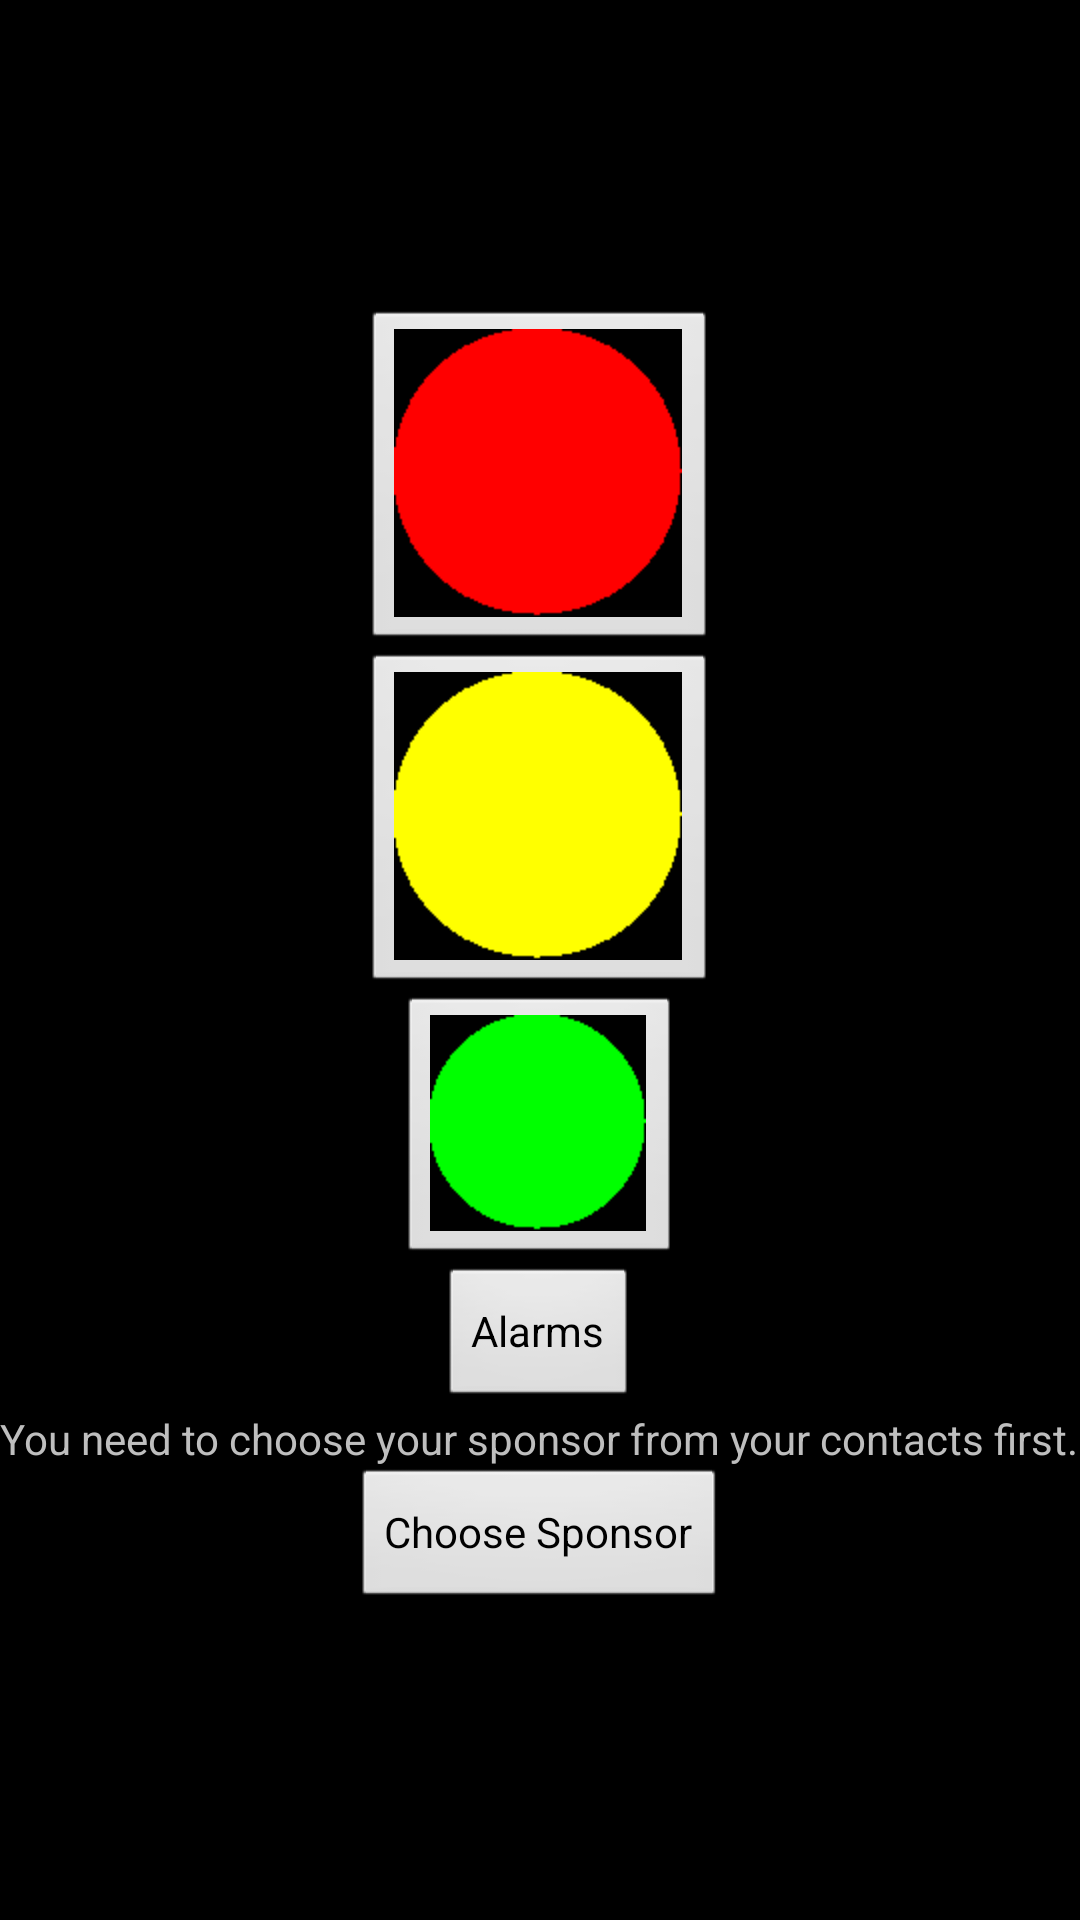

Icons on this 1080 × 1920 Android screen, each with the point to tap as point (x, y):
Green: point (539, 1124)
Red: point (539, 474)
Yellow: point (539, 817)
